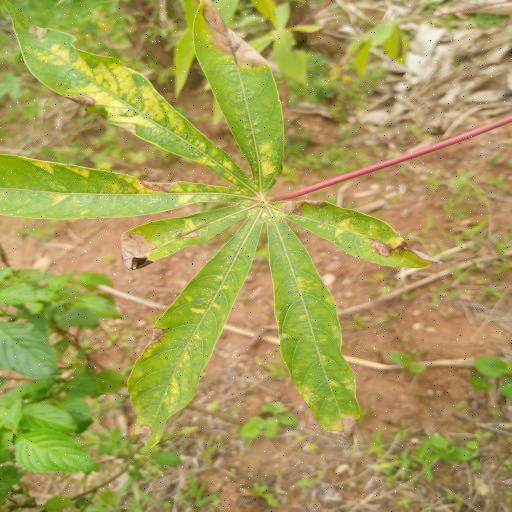Cassava_Brown_Leaf_Spot: (13, 0, 457, 451)
